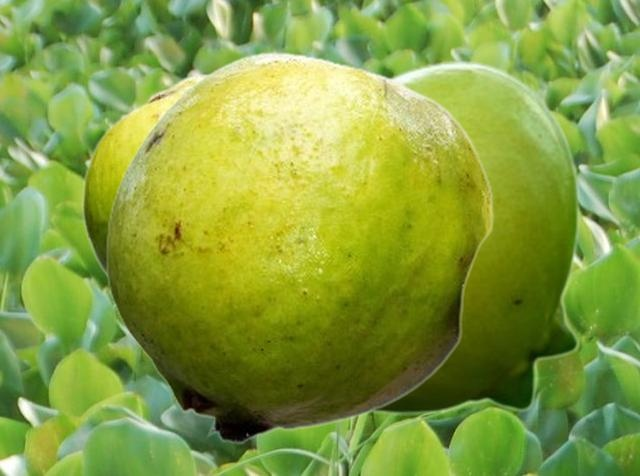guava: (105, 51, 493, 444), (371, 59, 580, 414), (81, 73, 207, 278)
